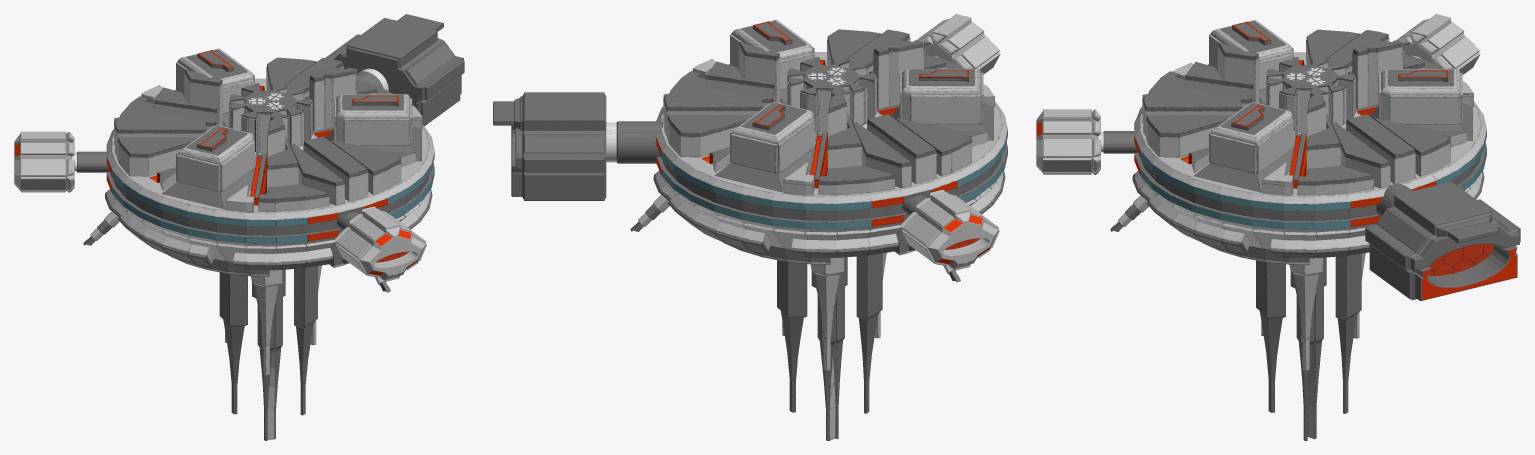
The model's file is station1.obj.
The picture shows the model from 3 angles, left to right: view 1: azimuth 30°, elevation 25°; view 2: azimuth 150°, elevation 25°; view 3: azimuth 270°, elevation 25°; orthographic projection. The views are drawn at different scales.
Visible parts, largest first — view 1: main_SketchUp.001_ID10, dockingbay.002_Mesh, dockingbay_Mesh.012, dockingbay.001_Mesh.012, dockingarm.001_Mesh.003; view 2: main_SketchUp.001_ID10, dockingbay.002_Mesh, dockingbay.001_Mesh.012, dockingbay_Mesh.012, dockingarm_Mesh.003; view 3: main_SketchUp.001_ID10, dockingbay.002_Mesh, dockingbay_Mesh.012, dockingbay.001_Mesh.012, dockingarm.002_Mesh.003.
Part boxes in pixels (x1,y1,x2,y2): main_SketchUp.001_ID10: (105, 48, 434, 440); dockingbay.002_Mesh: (325, 14, 464, 126); dockingbay_Mesh.012: (334, 206, 426, 281); dockingbay.001_Mesh.012: (14, 131, 109, 192); dockingarm.001_Mesh.003: (83, 211, 119, 245); main_SketchUp.001_ID10: (653, 19, 1007, 440); dockingbay.002_Mesh: (493, 92, 663, 200); dockingbay.001_Mesh.012: (899, 190, 999, 270); dockingbay_Mesh.012: (917, 14, 1000, 74); dockingarm_Mesh.003: (630, 194, 669, 231); main_SketchUp.001_ID10: (1132, 20, 1486, 440); dockingbay.002_Mesh: (1365, 181, 1520, 301); dockingbay_Mesh.012: (1036, 109, 1138, 174); dockingbay.001_Mesh.012: (1396, 14, 1480, 74); dockingarm.002_Mesh.003: (1110, 195, 1148, 231).
Bounding box in the file's own units: 39.1 × 29 × 34.05.
Materials: 11 (9 with a texture image).
